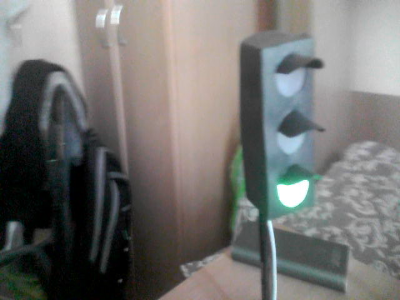trafficlight_green: (262, 43, 320, 212)
